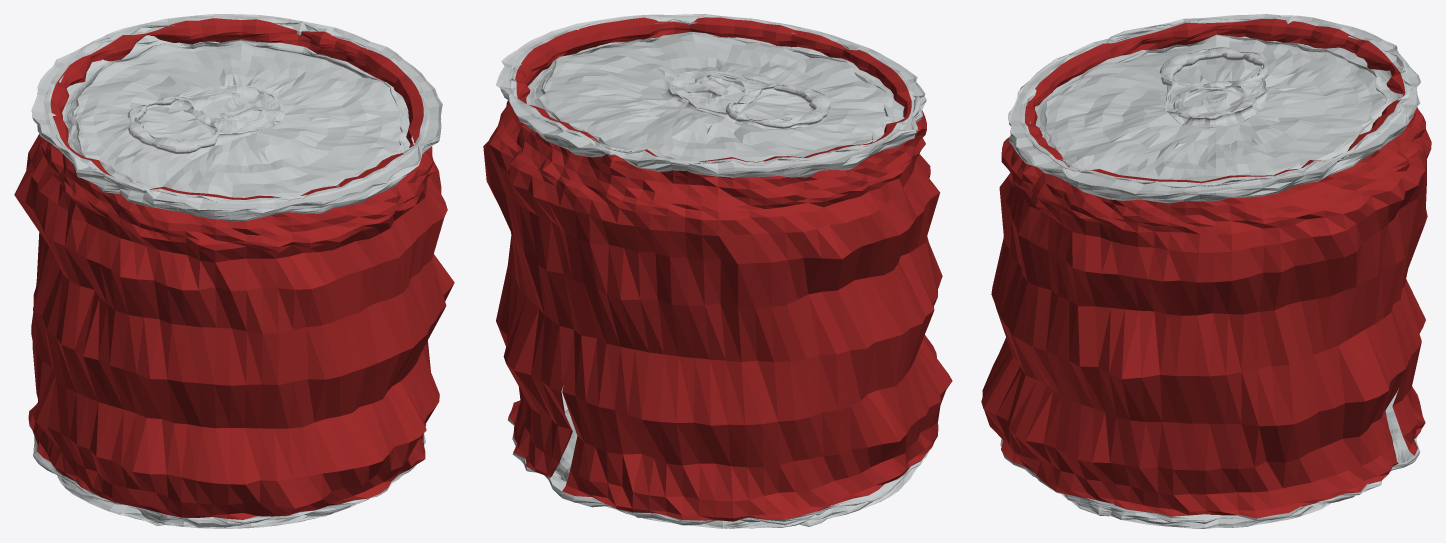
File: crush_high_1.obj
3 renders of one model, left to right at view 1: azimuth 30°, elevation 25°; view 2: azimuth 150°, elevation 25°; view 3: azimuth 270°, elevation 25°, orthographic. The views are drawn at different scales.
Parts seen in each view (by area): view 1: model; view 2: model; view 3: model.
Part boxes in pixels (<box>): model: <box>14,14,454,528</box>; model: <box>483,14,952,528</box>; model: <box>981,14,1431,528</box>.
Bounding box in the file's own units: 0.0673 × 0.0622 × 0.0676.
Materials: 1 (1 with a texture image).
